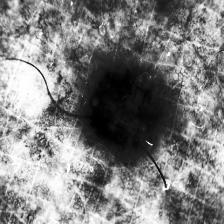Benign Marking or Mole: (88, 70, 164, 152)
